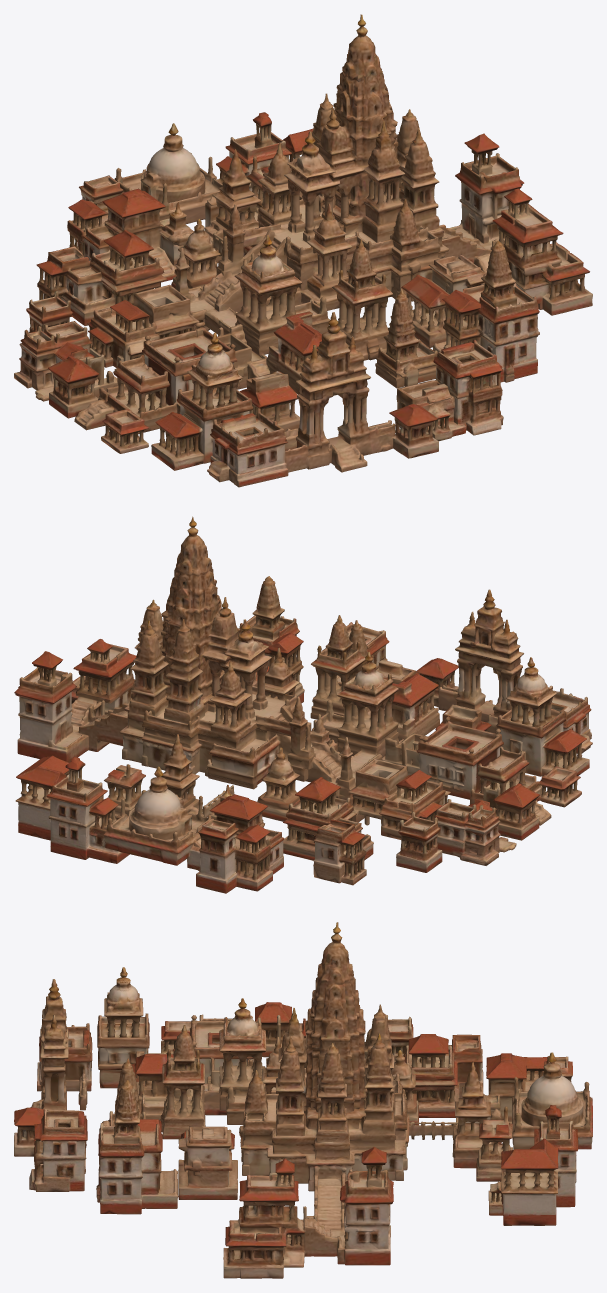
The model's file is Classical City (South Asian).fbx.
3 renders of one model, top to bottom at view 1: azimuth 30°, elevation 25°; view 2: azimuth 150°, elevation 25°; view 3: azimuth 270°, elevation 25°, orthographic. The views are drawn at different scales.
Visible parts, largest first — view 1: tripo_node_a888ed43; view 2: tripo_node_a888ed43; view 3: tripo_node_a888ed43.
Boxes of the visible parts, left/top/right/bottom form: tripo_node_a888ed43: left=14, top=14, right=592, bottom=487; tripo_node_a888ed43: left=14, top=516, right=592, bottom=893; tripo_node_a888ed43: left=14, top=922, right=592, bottom=1278.
Size of the model in its own units: 0.9709 by 0.5317 by 1.
